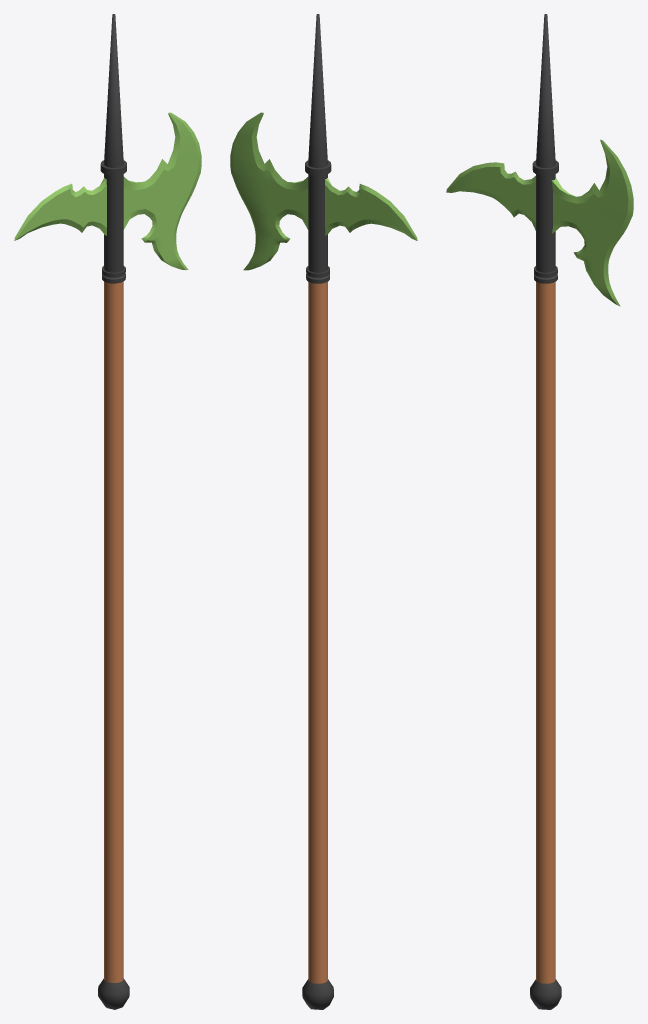
The model's file is alabarda.fbx.
3 renders of one model, left to right at view 1: azimuth 30°, elevation 25°; view 2: azimuth 150°, elevation 25°; view 3: azimuth 330°, elevation 25°, orthographic.
Parts seen in each view (by area): view 1: CaboMadeira, LaminaFrontal, espeto, LaminaTras, BolaMetal; view 2: CaboMadeira, LaminaFrontal, espeto, LaminaTras, BolaMetal; view 3: CaboMadeira, LaminaFrontal, espeto, LaminaTras, BolaMetal.
Part boxes in pixels (x1=…): CaboMadeira: x1=104, y1=281, x2=123, y2=982; LaminaFrontal: x1=123, y1=112, x2=201, y2=270; espeto: x1=100, y1=14, x2=126, y2=283; LaminaTras: x1=14, y1=177, x2=106, y2=240; BolaMetal: x1=98, y1=978, x2=129, y2=1009; CaboMadeira: x1=308, y1=281, x2=327, y2=983; LaminaFrontal: x1=230, y1=112, x2=308, y2=270; espeto: x1=305, y1=14, x2=331, y2=283; LaminaTras: x1=325, y1=178, x2=417, y2=240; BolaMetal: x1=302, y1=979, x2=333, y2=1009; CaboMadeira: x1=536, y1=282, x2=555, y2=983; LaminaFrontal: x1=551, y1=139, x2=633, y2=306; espeto: x1=532, y1=14, x2=558, y2=283; LaminaTras: x1=446, y1=162, x2=535, y2=230; BolaMetal: x1=530, y1=979, x2=561, y2=1009.
Bounding box in the file's own units: 55.96 × 284 × 8.24.
